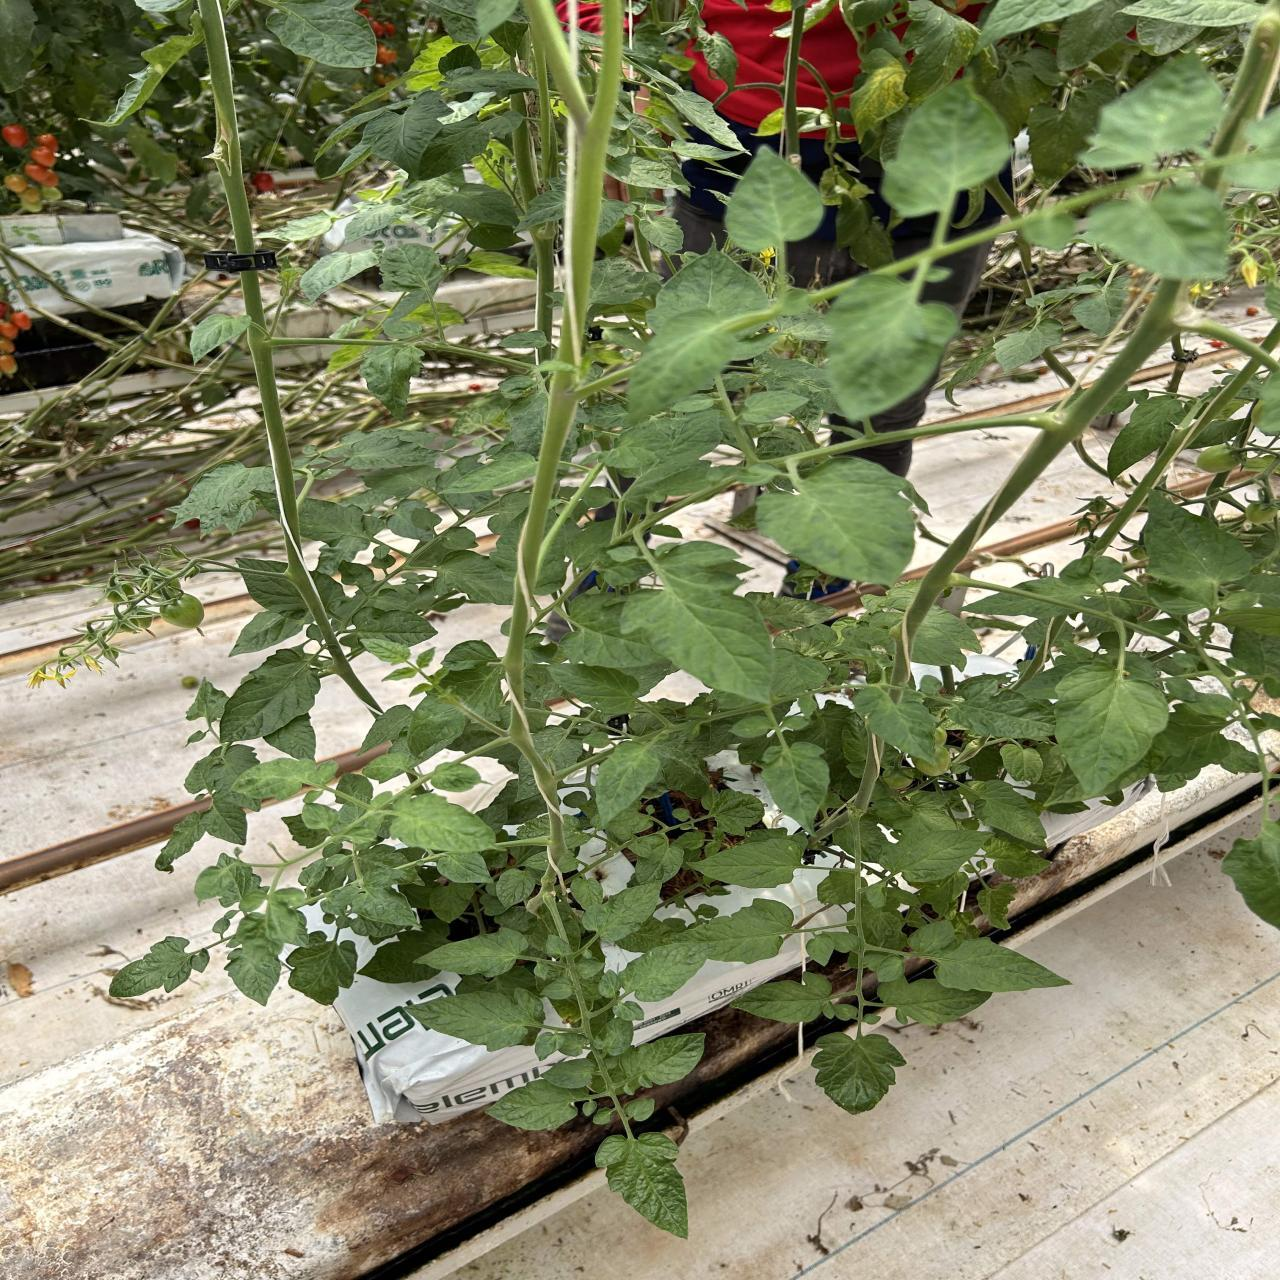Rugose leaf: (904, 0, 980, 100), (851, 59, 907, 141)
